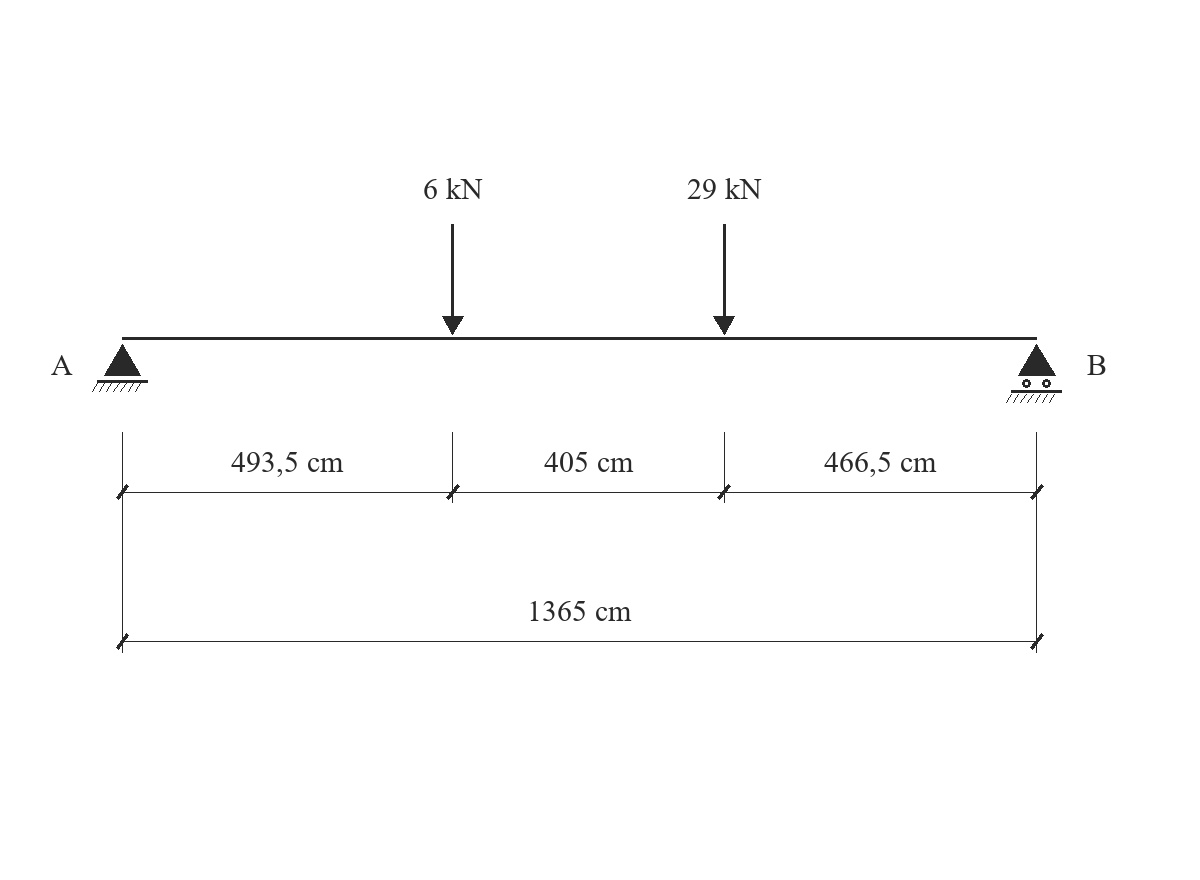pin_support: (92, 344, 148, 392)
point_load: (442, 224, 464, 335), (713, 224, 735, 335)
roller_support: (1006, 344, 1062, 403)
